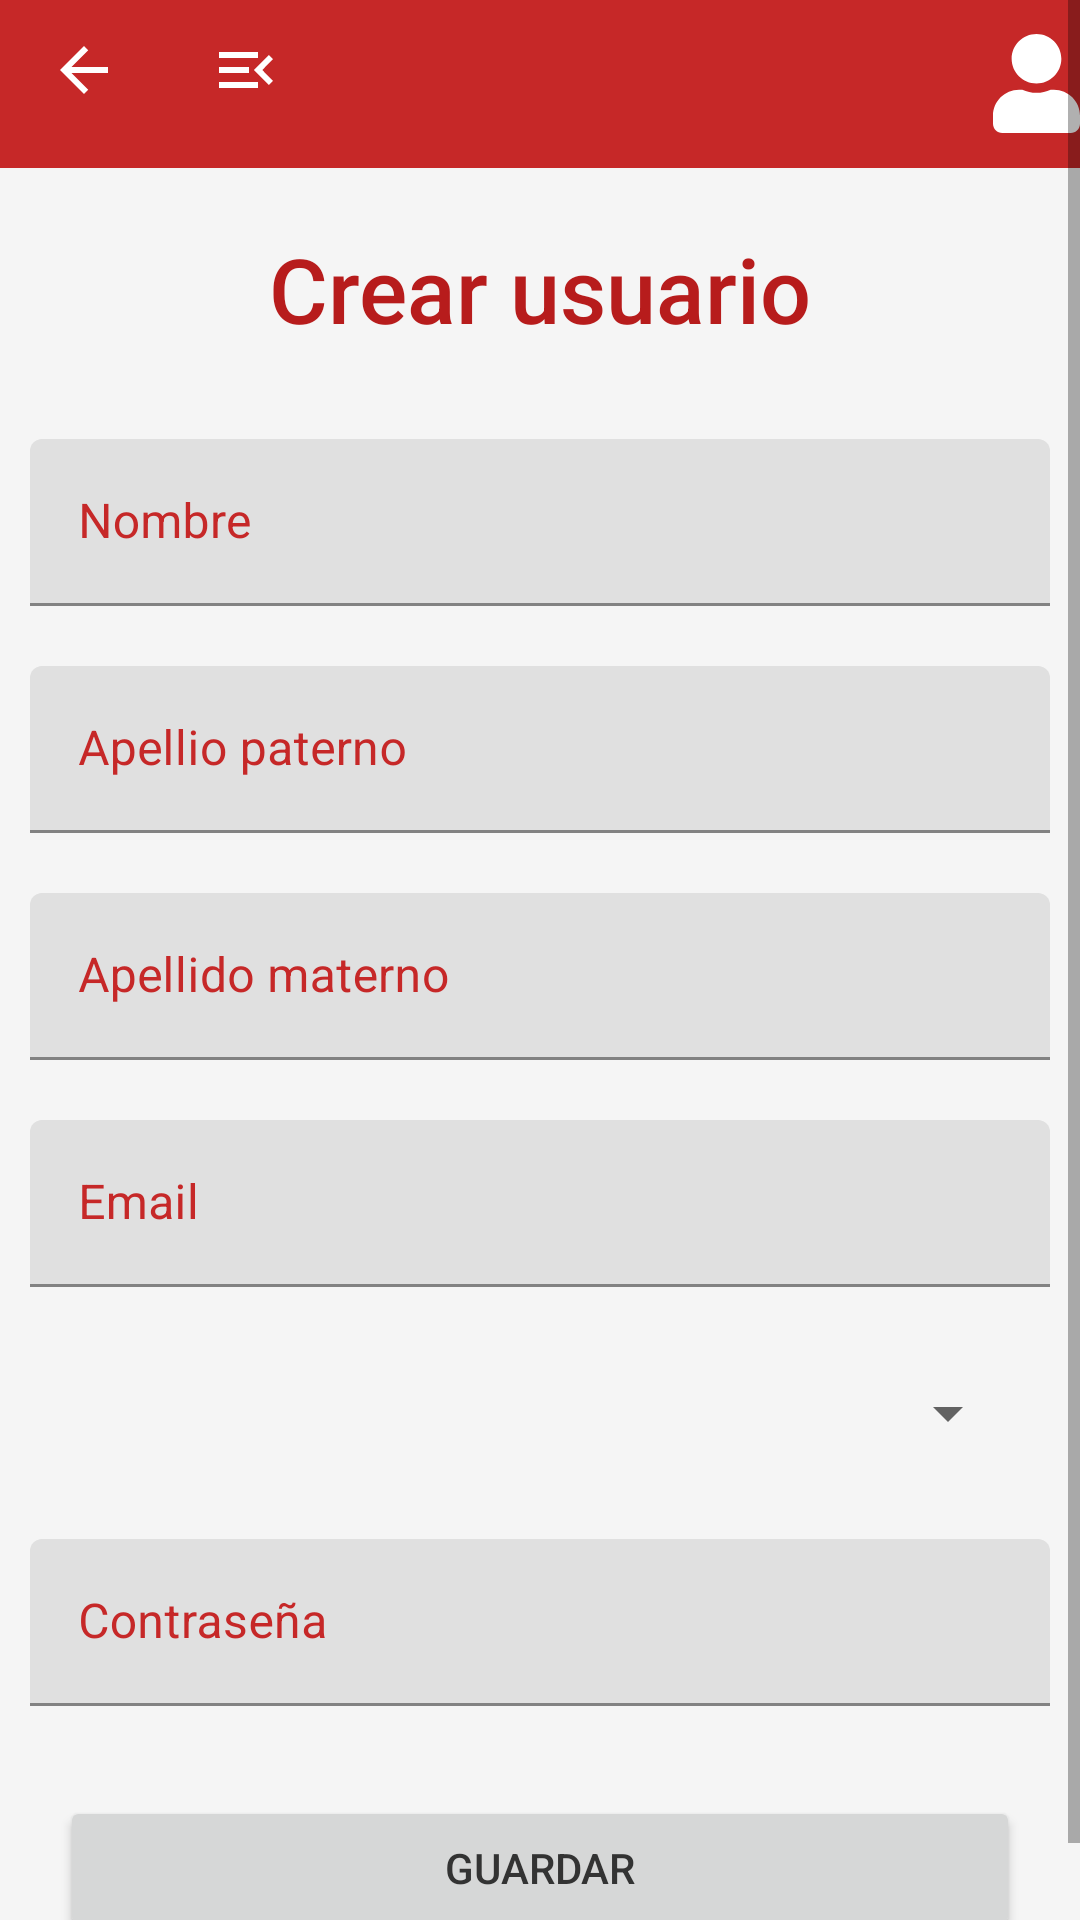

Screen size 1080x1920. Icon name, then its box in pixels as (x1, y1, x2, y2):
arrow back: (60, 46, 108, 94)
open: (219, 52, 273, 88)
user: (993, 34, 1080, 133)
